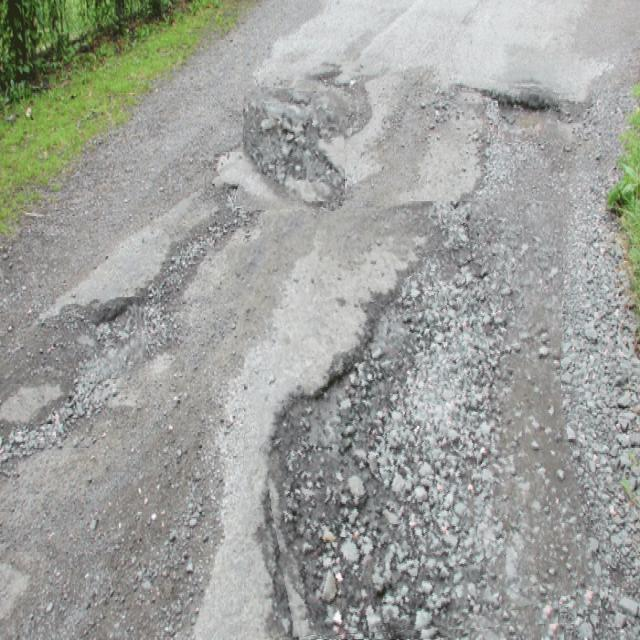Pothole: (244, 201, 582, 640), (240, 88, 347, 214), (498, 62, 557, 144), (90, 297, 148, 378)
